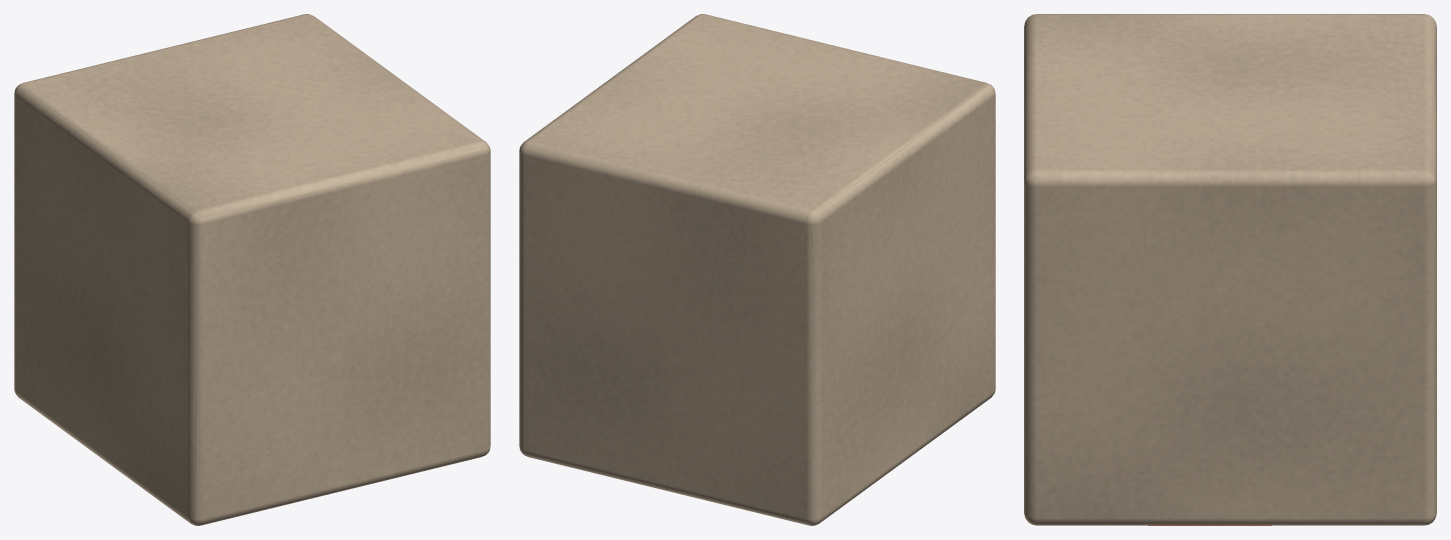
Rendered from Stock__RowA_Bay1__Tote002__Goods0.glb.
The picture shows the model from 3 angles, left to right: view 1: azimuth 30°, elevation 25°; view 2: azimuth 150°, elevation 25°; view 3: azimuth 270°, elevation 25°; orthographic projection. The views are drawn at different scales.
Parts seen in each view (by area): view 1: /World/Stock/RowA_Bay1/Tote002/Goods0/Visual/Cardboard; view 2: /World/Stock/RowA_Bay1/Tote002/Goods0/Visual/Cardboard; view 3: /World/Stock/RowA_Bay1/Tote002/Goods0/Visual/Cardboard.
Part boxes in pixels (x1,y1,x2,y2): /World/Stock/RowA_Bay1/Tote002/Goods0/Visual/Cardboard: [14, 14, 490, 525]; /World/Stock/RowA_Bay1/Tote002/Goods0/Visual/Cardboard: [519, 14, 995, 525]; /World/Stock/RowA_Bay1/Tote002/Goods0/Visual/Cardboard: [1024, 14, 1436, 525].
Size of the model in its own units: 0.091 by 0.0921 by 0.096.
2 materials, 1 textured.
